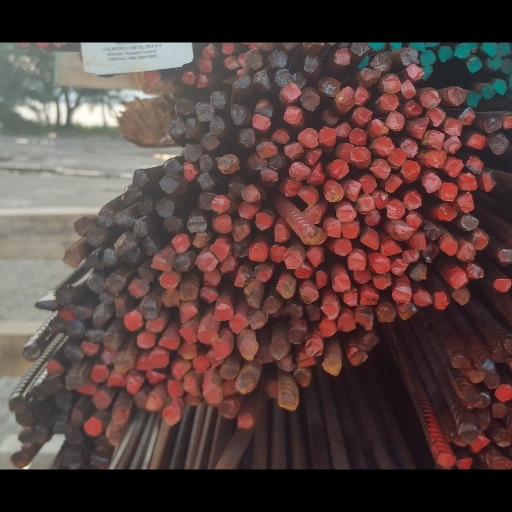dipstick: (320, 178, 347, 203), (401, 115, 432, 136), (419, 168, 443, 195), (112, 231, 137, 256), (243, 280, 266, 307), (217, 153, 242, 177), (396, 135, 421, 159), (423, 128, 449, 151), (300, 224, 329, 244), (392, 46, 421, 66), (366, 251, 391, 274), (409, 261, 432, 286), (422, 148, 447, 171), (127, 277, 153, 299), (160, 398, 181, 425), (279, 81, 306, 102), (287, 323, 310, 347), (106, 421, 128, 446), (382, 172, 407, 194), (318, 73, 340, 98), (243, 150, 269, 171), (334, 85, 355, 111), (300, 85, 320, 112), (358, 226, 381, 249), (193, 99, 217, 121), (175, 322, 199, 344), (329, 273, 353, 295), (379, 235, 403, 257), (342, 178, 366, 200), (353, 306, 374, 331), (411, 286, 432, 311), (400, 158, 421, 183), (477, 167, 498, 192), (228, 103, 250, 126), (196, 251, 219, 273), (246, 309, 269, 331), (267, 242, 289, 265), (144, 389, 165, 413), (332, 236, 353, 260), (456, 190, 477, 214), (336, 199, 357, 223), (456, 170, 477, 194), (257, 165, 281, 186), (236, 127, 257, 151), (352, 146, 373, 170), (444, 84, 465, 108), (369, 52, 393, 73), (155, 198, 180, 218), (307, 161, 327, 186), (488, 132, 508, 157), (375, 91, 400, 111), (277, 389, 299, 411), (346, 249, 368, 271), (369, 156, 391, 178), (328, 158, 350, 180), (282, 105, 304, 127), (480, 113, 502, 135), (424, 105, 446, 127), (226, 175, 247, 198), (276, 276, 297, 299), (377, 302, 398, 325), (282, 247, 303, 270), (303, 245, 324, 268), (439, 235, 460, 258), (443, 155, 464, 178), (441, 115, 464, 136), (489, 426, 510, 449), (149, 253, 173, 273), (107, 272, 127, 296), (385, 222, 415, 238), (371, 136, 395, 156), (403, 98, 427, 118), (419, 88, 443, 108), (161, 216, 186, 235), (299, 279, 318, 304), (240, 335, 258, 361), (182, 142, 204, 163), (196, 170, 217, 192), (122, 247, 143, 269), (322, 355, 343, 377), (318, 299, 340, 320), (319, 317, 341, 338), (419, 242, 440, 264), (471, 230, 493, 251), (435, 202, 457, 223), (297, 185, 319, 206), (282, 177, 304, 198), (267, 149, 289, 170), (298, 126, 319, 148), (268, 46, 290, 67), (172, 95, 195, 115), (171, 358, 191, 381), (294, 261, 317, 281), (386, 147, 409, 167), (288, 159, 311, 179), (252, 97, 275, 117), (385, 110, 405, 133), (458, 390, 481, 410), (471, 431, 491, 454), (453, 286, 472, 310), (445, 269, 469, 288), (31, 297, 61, 312), (220, 363, 245, 381), (456, 212, 481, 230), (240, 183, 261, 204), (164, 377, 185, 398), (262, 294, 283, 315), (252, 263, 273, 284), (392, 283, 413, 304), (355, 194, 376, 215), (465, 131, 486, 152), (381, 72, 402, 93), (248, 240, 268, 262), (197, 325, 219, 345), (191, 352, 211, 374), (300, 338, 322, 358), (349, 349, 371, 369), (457, 240, 479, 260), (403, 209, 425, 229), (358, 171, 378, 193), (335, 140, 355, 162), (349, 126, 369, 148), (368, 117, 390, 137), (443, 134, 463, 156), (457, 106, 477, 128), (72, 217, 95, 236), (176, 303, 199, 322), (230, 74, 253, 93), (458, 421, 477, 444), (433, 289, 451, 313), (300, 204, 324, 222), (318, 124, 336, 148), (358, 65, 382, 83), (118, 185, 143, 202), (126, 370, 143, 395), (186, 213, 207, 233), (170, 233, 190, 254), (179, 280, 199, 301), (219, 399, 239, 420), (386, 199, 406, 220), (322, 218, 343, 238), (283, 138, 304, 158), (145, 67, 164, 89), (232, 219, 251, 241), (62, 247, 81, 269), (210, 241, 229, 263), (71, 301, 93, 320), (149, 348, 171, 367), (82, 415, 101, 437), (204, 381, 223, 403), (230, 312, 249, 334), (292, 366, 311, 388), (337, 312, 356, 334), (388, 255, 407, 277), (402, 191, 424, 210), (352, 105, 374, 124), (256, 142, 282, 158), (92, 362, 110, 385), (181, 372, 199, 395), (303, 301, 321, 324), (495, 242, 512, 266), (180, 161, 200, 181), (237, 199, 257, 219), (254, 211, 274, 231), (135, 329, 155, 349), (25, 385, 45, 405), (53, 392, 73, 412), (115, 351, 135, 371), (90, 390, 110, 410), (232, 266, 252, 286), (396, 302, 416, 322), (372, 189, 392, 209), (320, 106, 340, 126), (139, 235, 158, 256), (85, 228, 106, 247), (175, 252, 194, 273), (160, 288, 181, 307), (87, 271, 106, 292), (123, 310, 144, 329), (135, 351, 154, 372), (236, 374, 255, 395), (269, 338, 288, 359), (341, 287, 360, 308), (408, 230, 427, 251), (439, 181, 458, 202), (270, 124, 289, 145), (333, 119, 352, 140), (398, 78, 417, 99), (245, 49, 266, 68), (213, 212, 231, 234), (62, 345, 84, 363), (159, 333, 181, 351), (175, 341, 197, 359), (257, 342, 275, 364), (372, 271, 394, 289), (466, 154, 484, 176), (405, 63, 427, 81), (450, 352, 472, 370), (355, 83, 372, 106), (131, 168, 150, 188), (94, 207, 113, 227), (220, 255, 239, 275), (284, 301, 303, 321), (423, 223, 443, 242), (334, 47, 353, 67), (210, 90, 228, 111), (193, 230, 211, 251), (230, 240, 251, 258), (143, 315, 164, 333), (65, 372, 86, 390), (341, 220, 362, 238), (253, 70, 271, 91), (435, 450, 456, 468), (158, 271, 180, 288), (65, 321, 87, 338), (41, 377, 63, 394), (235, 413, 257, 430), (250, 113, 272, 130), (112, 212, 135, 228), (140, 295, 156, 318), (211, 194, 230, 213), (49, 315, 68, 334), (111, 405, 130, 424), (361, 332, 380, 351), (303, 146, 322, 165), (209, 116, 227, 136), (163, 157, 183, 175), (160, 175, 180, 193), (214, 302, 232, 322), (68, 407, 86, 427), (467, 263, 487, 281), (364, 208, 384, 226), (200, 132, 221, 149), (92, 306, 109, 327), (103, 329, 120, 350), (9, 451, 30, 468), (353, 270, 374, 287), (146, 369, 168, 385), (314, 267, 330, 289), (495, 379, 511, 401), (103, 247, 118, 270), (186, 119, 204, 138), (199, 286, 218, 304), (99, 348, 118, 366), (464, 89, 483, 107), (83, 253, 103, 270), (201, 269, 221, 286), (21, 342, 41, 359), (297, 352, 317, 369), (492, 276, 512, 293), (303, 53, 320, 73), (418, 49, 438, 66), (273, 221, 289, 242), (78, 339, 99, 355), (14, 411, 35, 427), (491, 76, 507, 97), (197, 192, 215, 210), (137, 266, 155, 284), (361, 288, 379, 306), (275, 68, 293, 86), (464, 55, 482, 73), (131, 218, 148, 237), (54, 286, 73, 303), (132, 392, 151, 409), (168, 117, 184, 137), (198, 153, 215, 171), (108, 370, 125, 388), (211, 339, 229, 356), (277, 354, 294, 372), (474, 412, 491, 430), (47, 359, 66, 375), (402, 247, 421, 263), (292, 69, 308, 88), (482, 372, 501, 388), (491, 401, 507, 420), (198, 43, 218, 58), (78, 382, 99, 396), (350, 43, 371, 57), (479, 83, 496, 100), (97, 290, 115, 306), (85, 327, 103, 343), (7, 395, 23, 413), (14, 428, 32, 444), (438, 46, 454, 64), (453, 43, 471, 59), (139, 196, 154, 215), (223, 378, 238, 397), (498, 56, 512, 76), (468, 368, 485, 384), (478, 357, 495, 373), (34, 427, 49, 445), (454, 454, 472, 469), (114, 298, 128, 317), (479, 43, 498, 57), (222, 54, 238, 70), (486, 54, 502, 70), (55, 417, 70, 434), (195, 57, 213, 71), (207, 353, 225, 367), (420, 64, 435, 80), (500, 110, 512, 130), (181, 70, 196, 85), (197, 71, 209, 88), (266, 382, 278, 399), (221, 43, 235, 56), (497, 43, 510, 56)
